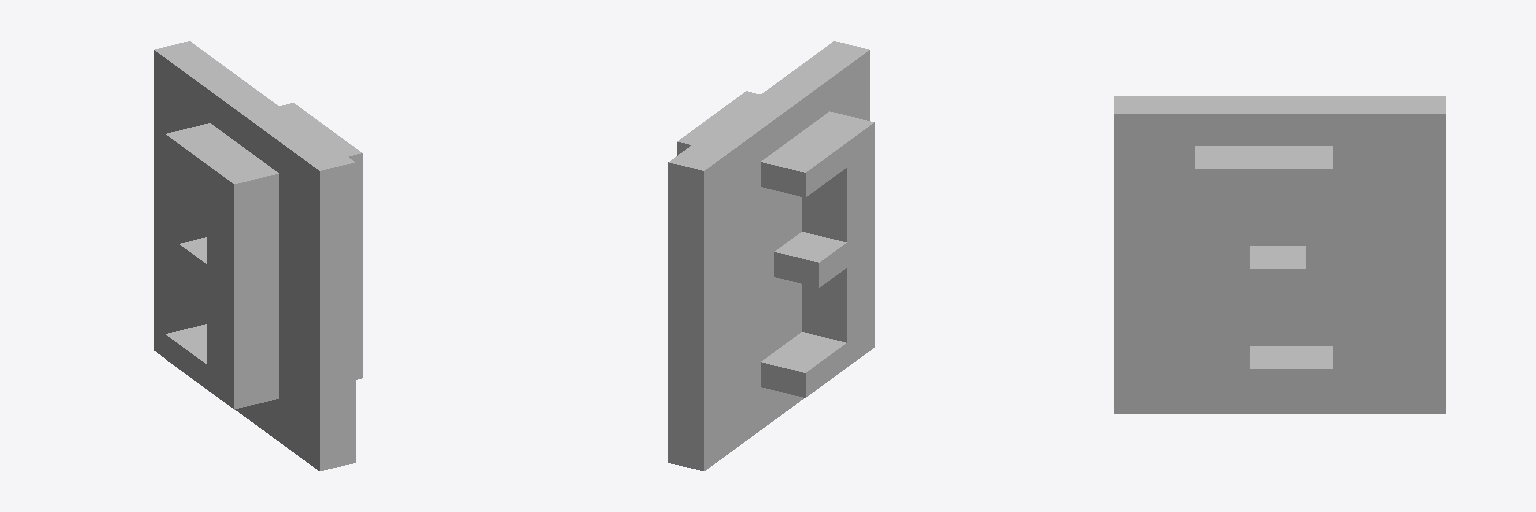
The model's file is letter_E.obj.
3 renders of one model, left to right at view 1: azimuth 30°, elevation 25°; view 2: azimuth 150°, elevation 25°; view 3: azimuth 270°, elevation 25°, orthographic.
Parts seen in each view (by area): view 1: window, Text; view 2: window, Text; view 3: window, Text.
Part boxes in pixels (x1,y1,x2,y2): window: (154, 41, 355, 470); Text: (165, 103, 362, 409); window: (668, 41, 869, 470); Text: (677, 91, 874, 397); window: (1114, 96, 1445, 413); Text: (1195, 146, 1332, 393).
Bounding box in the file's own units: 0.894 × 2 × 2.